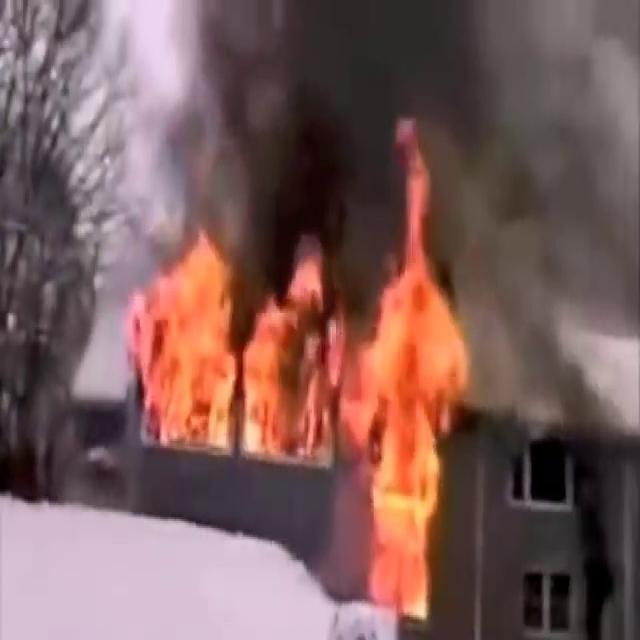Fire: (123, 157, 470, 620)
Smoke: (110, 0, 638, 320)
